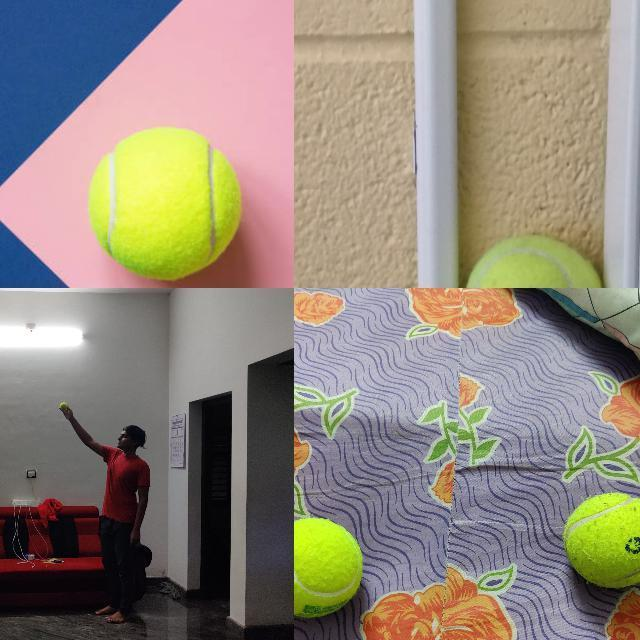tennis-ball: (87, 125, 241, 281), (562, 490, 639, 590), (462, 234, 606, 287), (294, 515, 363, 619), (59, 402, 67, 410)
